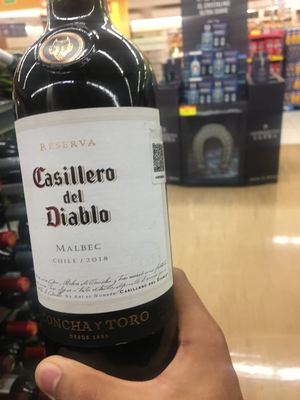casillero del diablo malbec: (9, 4, 208, 394)
